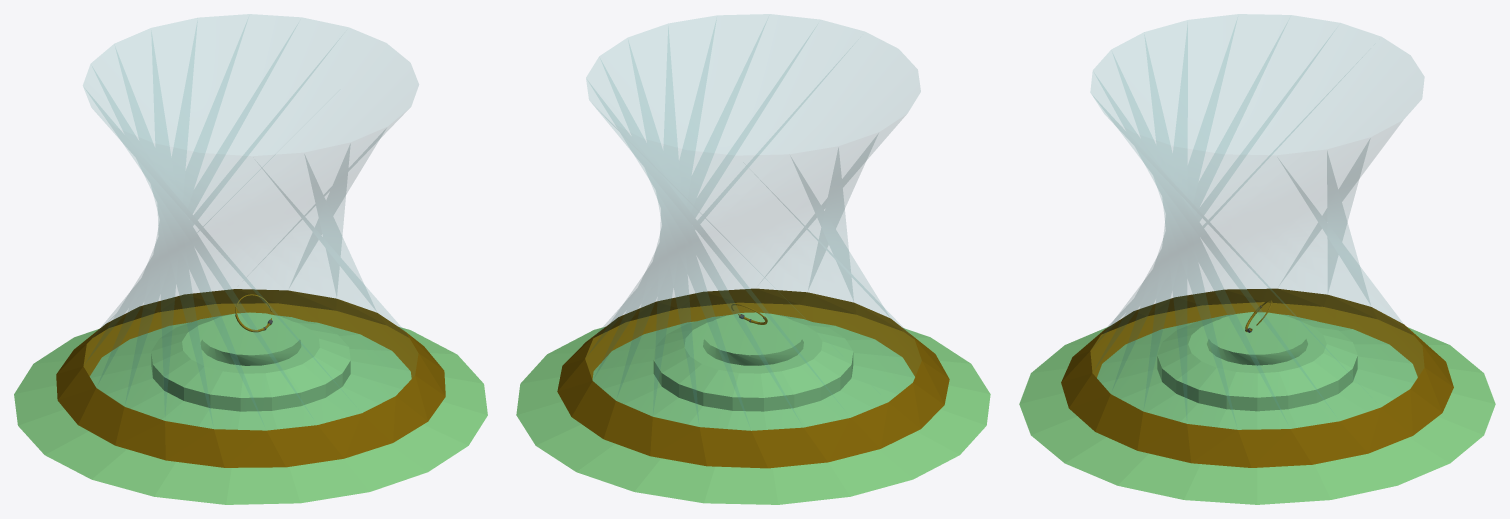
File: low_poly_whip_03.fbx
3 views of the same model, side by side, from view 1: azimuth 30°, elevation 25°; view 2: azimuth 150°, elevation 25°; view 3: azimuth 270°, elevation 25° (orthographic).
Visible parts, largest first — view 1: pCylinder1; view 2: pCylinder1; view 3: pCylinder1.
Part boxes in pixels (x1,y1,x2,y2): pCylinder1: (14, 14, 487, 504); pCylinder1: (516, 14, 990, 504); pCylinder1: (1019, 14, 1495, 504).
Size of the model in its own units: 12.03 by 8.91 by 12.03.
